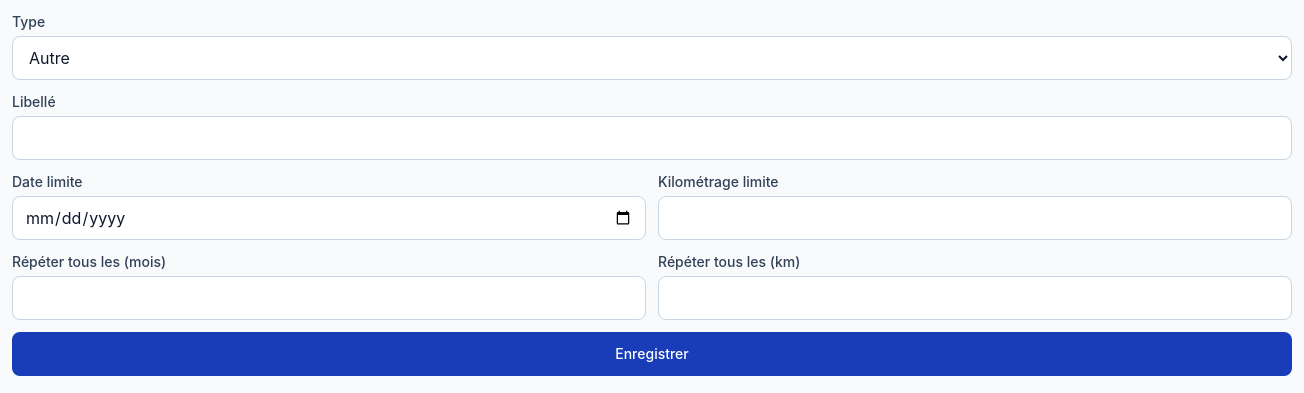
Test case: choosing the roadworthiness test prefills label and a 24-month recurrence
The image size is (1304, 393).
Select "Contrôle technique" in the dropdown labelled "Type" at (652, 58), box [12,36,1292,80]
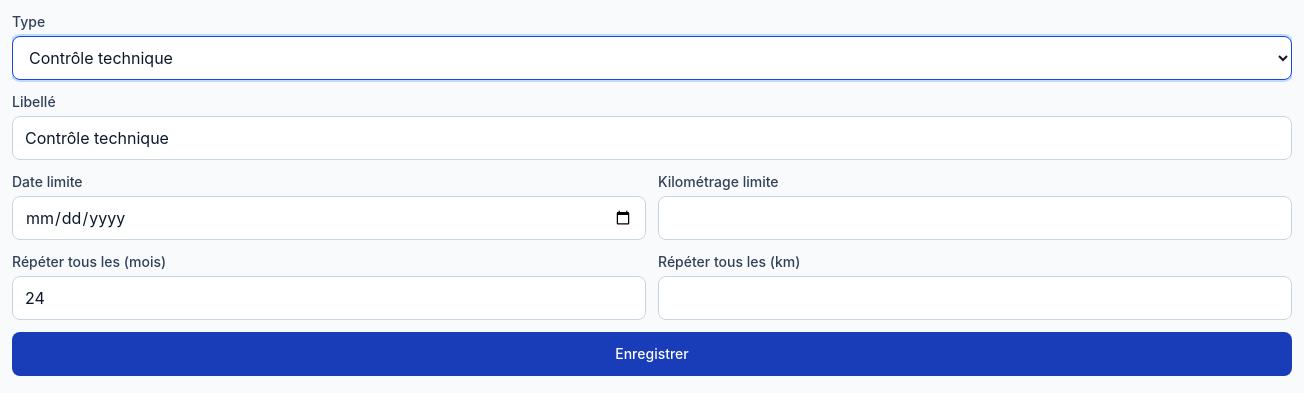
Expected: the field labelled "Libellé" holds "Contrôle technique", [12,116,1292,160]
Expected: the field labelled "Répéter tous les (mois)" holds "24", [12,276,646,320]
